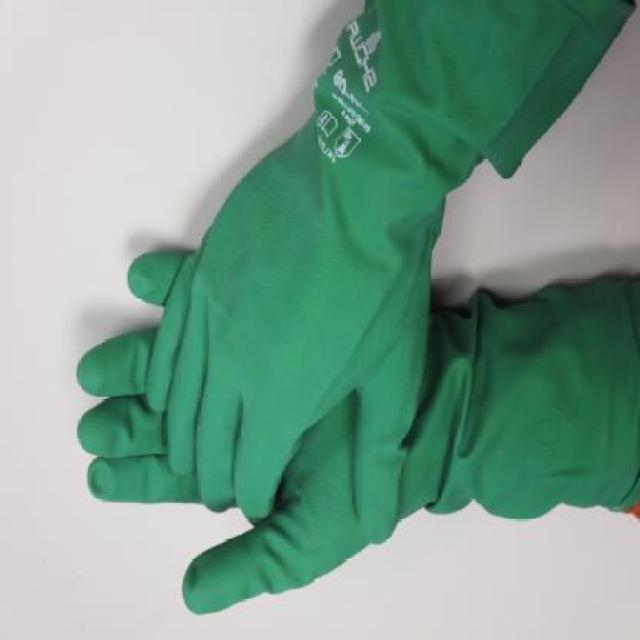gloved_hand: (73, 1, 639, 621)
